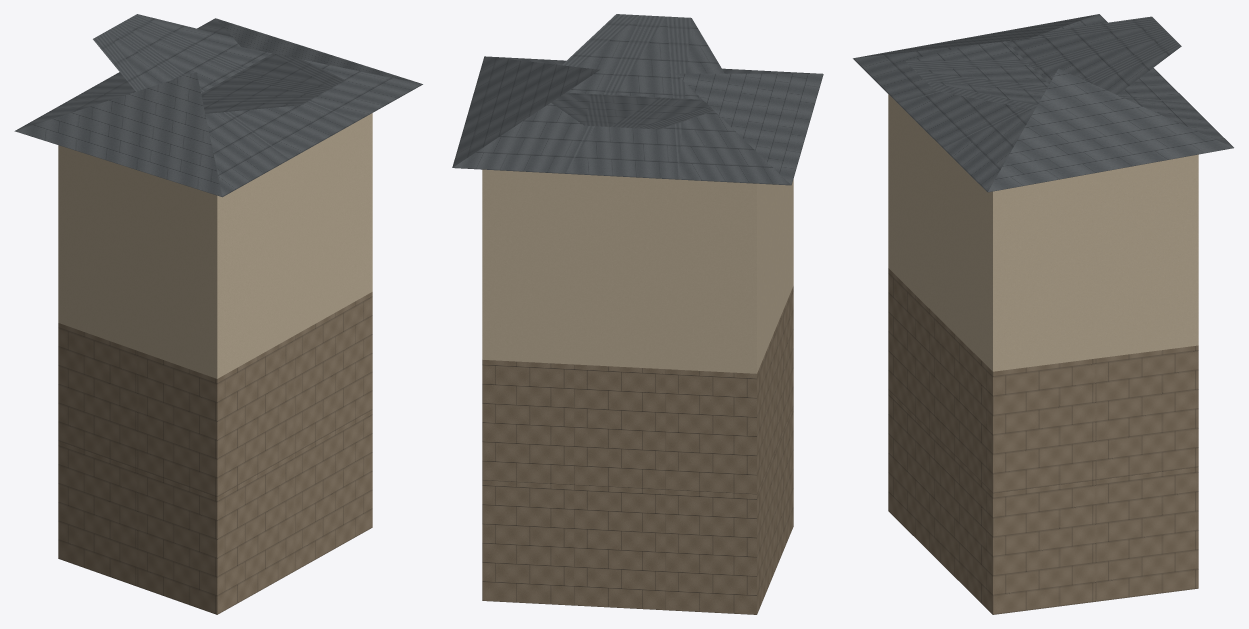
File: bld_c2_-17_696.gltf
3 renders of one model, left to right at view 1: azimuth 30°, elevation 25°; view 2: azimuth 150°, elevation 25°; view 3: azimuth 270°, elevation 25°, orthographic. The views are drawn at different scales.
Visible parts, largest first — view 1: bld_c2_-17_696; view 2: bld_c2_-17_696; view 3: bld_c2_-17_696.
Boxes of the visible parts, bbox=[...] form: bld_c2_-17_696: bbox=[14, 14, 422, 614]; bld_c2_-17_696: bbox=[452, 14, 823, 614]; bld_c2_-17_696: bbox=[853, 14, 1233, 614].
Size of the model in its own units: 7.71 by 10 by 6.98.
3 materials, 3 textured.
